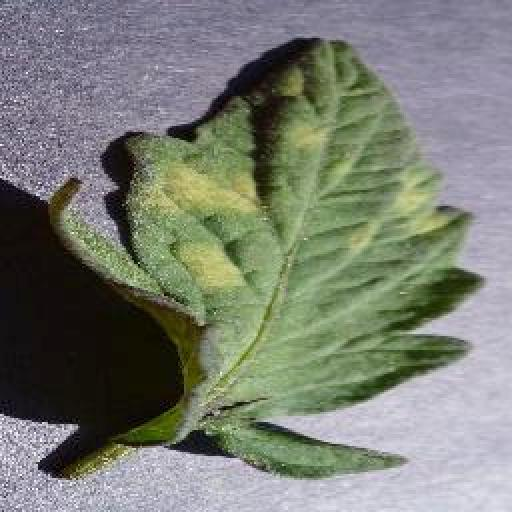disease_tomato: (52, 38, 492, 482)
